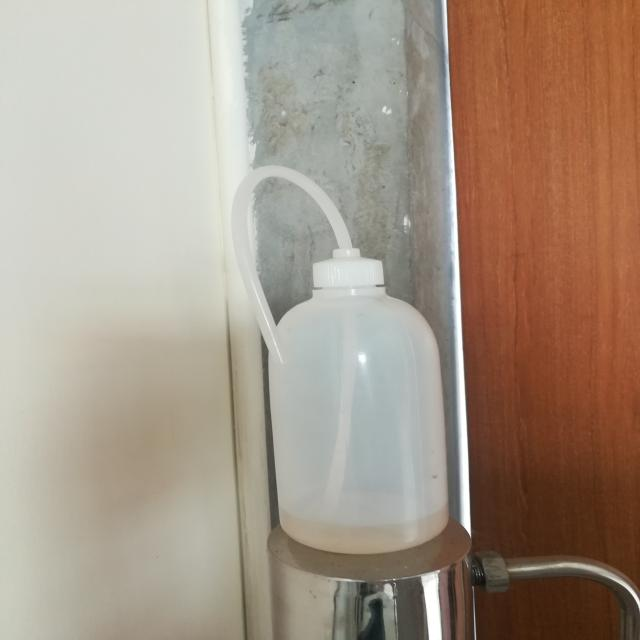Wash_Bottle: (205, 120, 504, 586)
